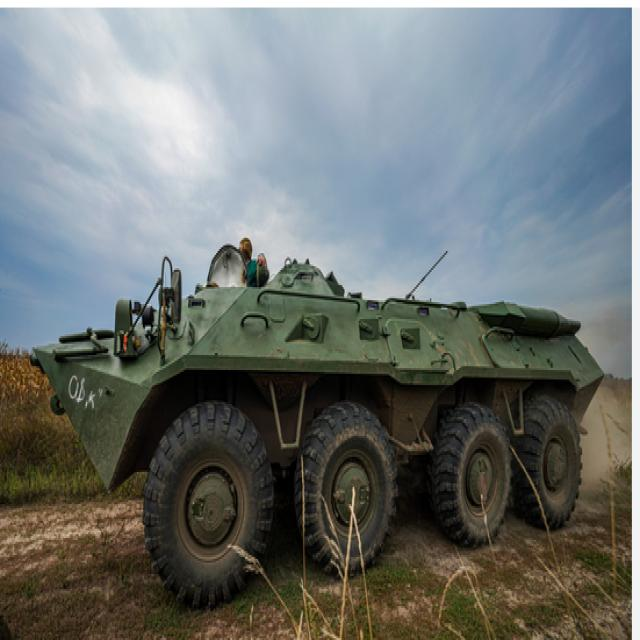MIL_APC: (24, 248, 611, 598)
